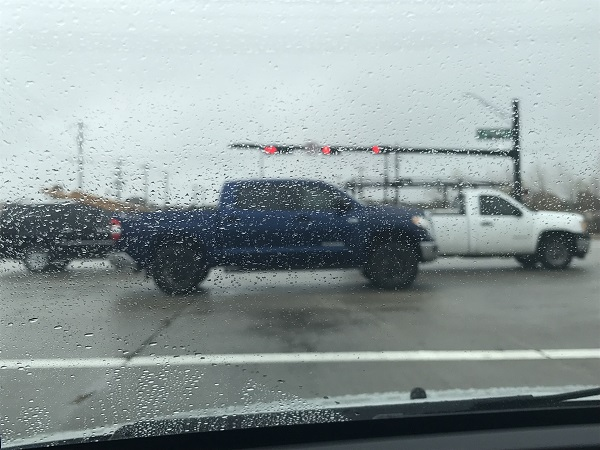car: (4, 204, 133, 275)
truck: (111, 182, 436, 294), (405, 187, 591, 269)
